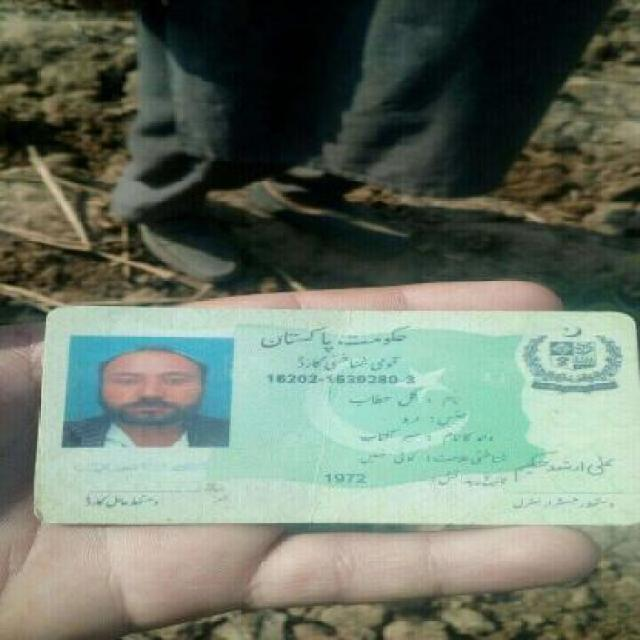Front: (23, 300, 637, 529)
